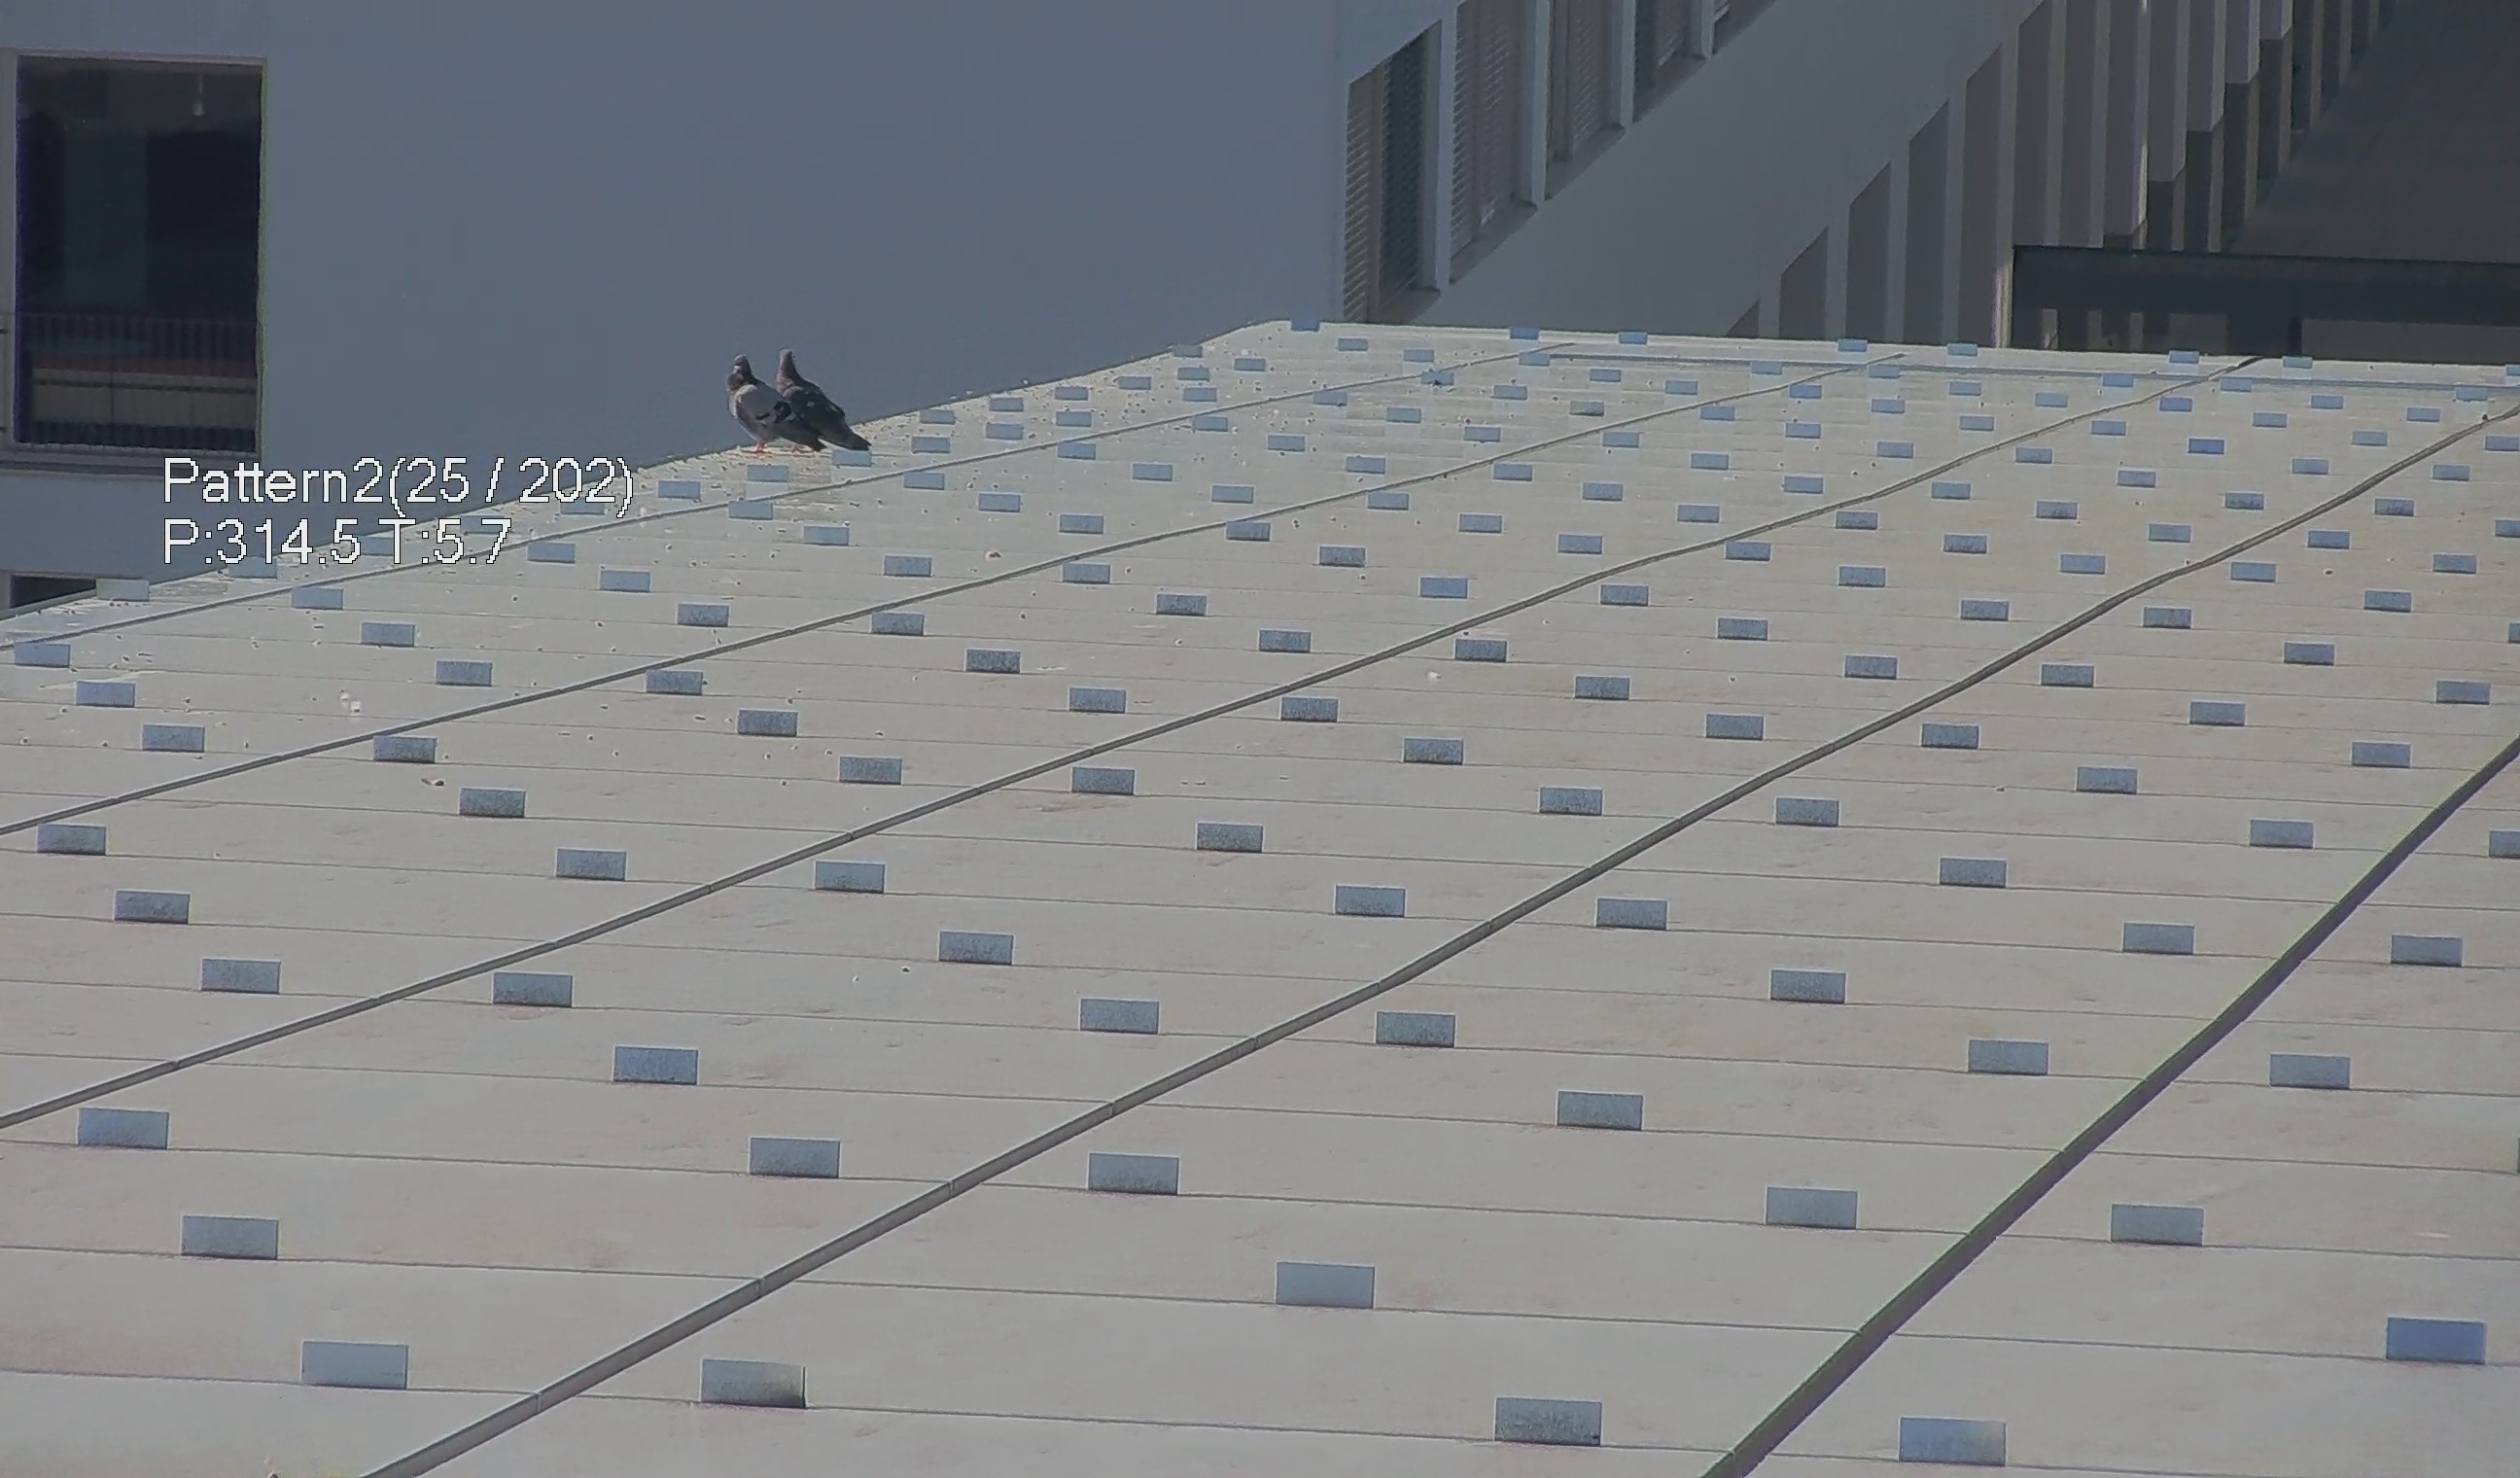Pigeon: (703, 327, 862, 457), (770, 341, 863, 456)
